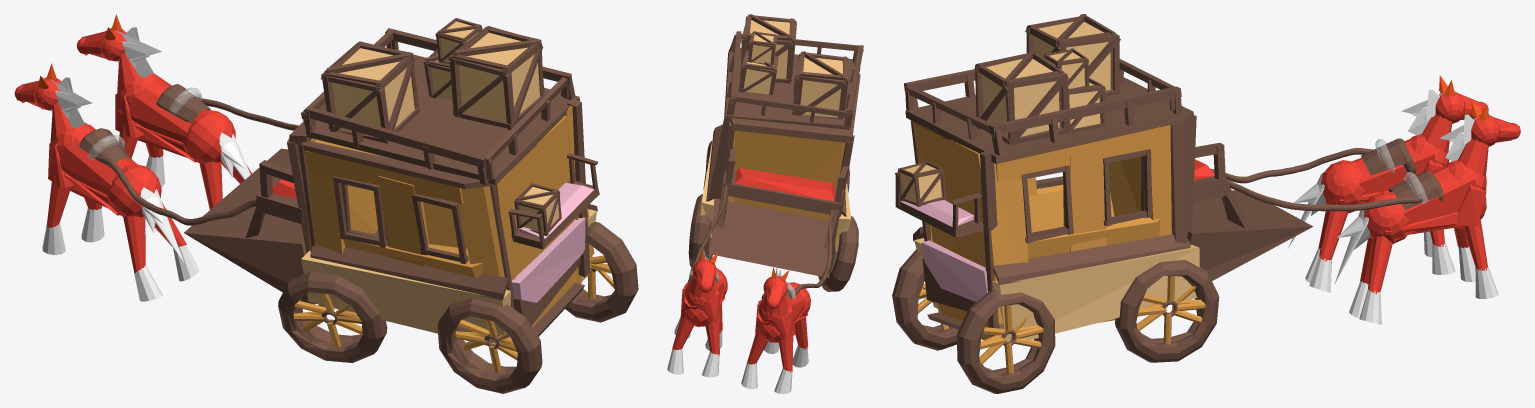
The model's file is carriage.glb.
The picture shows the model from 3 angles, left to right: view 1: azimuth 30°, elevation 25°; view 2: azimuth 150°, elevation 25°; view 3: azimuth 270°, elevation 25°; orthographic projection. The views are drawn at different scales.
Visible parts, largest first — view 1: group1590990939, group2118055527, group1906588460, group513408505, group1359593936, group1571663356, group1645794413, group1179005106, group1283899237, group1587774560, group1634807174, group1100275335; view 2: group1590990939, group2118055527, group1906588460, group1359593936, group513408505, group1634807174, group1283899237, group1645794413, group1100275335; view 3: group1590990939, group1906588460, group2118055527, group513408505, group1359593936, group1571663356, group1100275335, group1587774560, group1634807174, group1179005106, group1283899237, group1645794413.
Part boxes in pixels (x1=…): group1590990939: x1=184, y1=28, x2=638, y2=393; group2118055527: x1=14, y1=63, x2=199, y2=301; group1906588460: x1=76, y1=14, x2=251, y2=209; group513408505: x1=448, y1=26, x2=544, y2=130; group1359593936: x1=320, y1=41, x2=419, y2=143; group1571663356: x1=514, y1=183, x2=561, y2=235; group1645794413: x1=90, y1=155, x2=256, y2=225; group1179005106: x1=156, y1=84, x2=210, y2=122; group1283899237: x1=435, y1=18, x2=482, y2=63; group1587774560: x1=79, y1=128, x2=133, y2=166; group1634807174: x1=423, y1=49, x2=452, y2=100; group1100275335: x1=197, y1=97, x2=298, y2=130; group1590990939: x1=688, y1=31, x2=863, y2=291; group2118055527: x1=741, y1=266, x2=810, y2=393; group1906588460: x1=667, y1=248, x2=727, y2=377; group1359593936: x1=791, y1=51, x2=849, y2=119; group513408505: x1=739, y1=14, x2=796, y2=83; group1634807174: x1=738, y1=50, x2=778, y2=94; group1283899237: x1=747, y1=31, x2=777, y2=65; group1645794413: x1=793, y1=210, x2=833, y2=297; group1100275335: x1=689, y1=185, x2=727, y2=277; group1590990939: x1=892, y1=59, x2=1313, y2=393; group1906588460: x1=1334, y1=99, x2=1520, y2=324; group2118055527: x1=1287, y1=75, x2=1488, y2=292; group513408505: x1=973, y1=51, x2=1069, y2=145; group1359593936: x1=1025, y1=14, x2=1120, y2=96; group1571663356: x1=897, y1=160, x2=946, y2=206; group1100275335: x1=1227, y1=180, x2=1422, y2=211; group1587774560: x1=1361, y1=138, x2=1416, y2=175; group1634807174: x1=1068, y1=78, x2=1106, y2=132; group1179005106: x1=1389, y1=171, x2=1443, y2=209; group1283899237: x1=1043, y1=48, x2=1089, y2=88; group1645794413: x1=1210, y1=148, x2=1373, y2=183.
Bounding box in the file's own units: 1.21 × 1.04 × 1.86.
